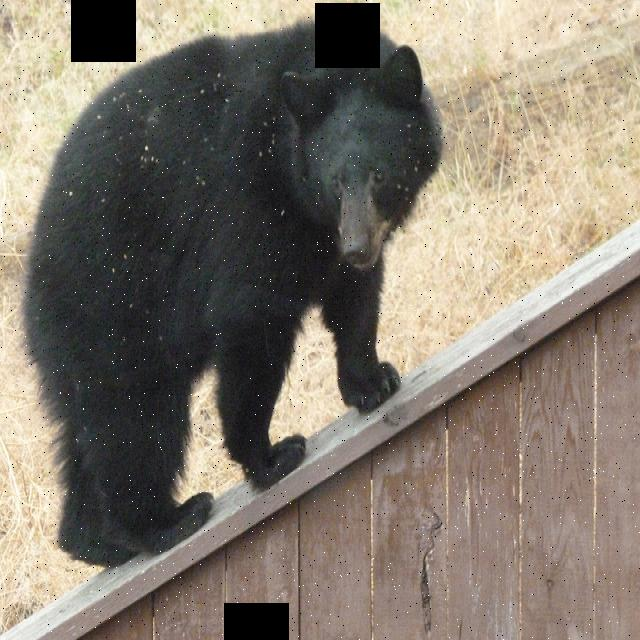Bear: (20, 28, 448, 575)
